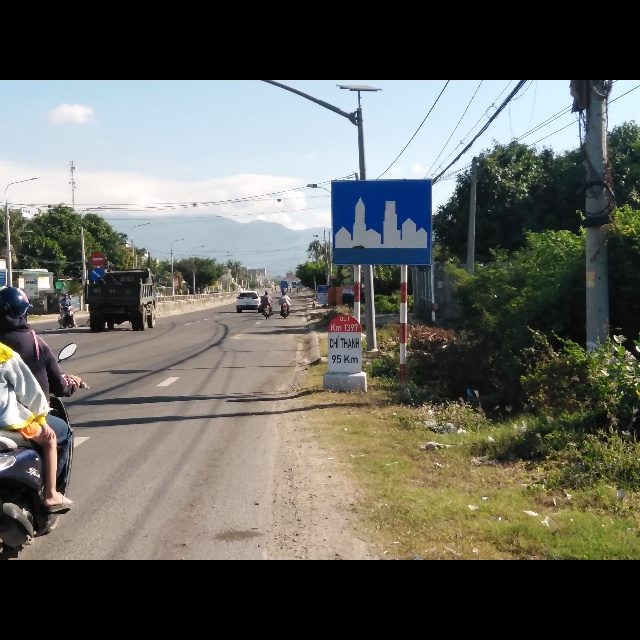Khu đông dân cư: (330, 178, 435, 266)
